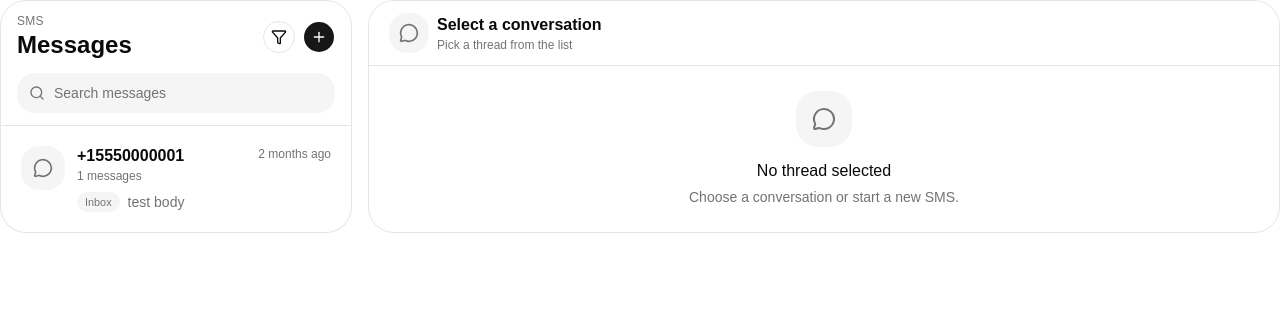
Scenario: MessageConsole context menus › opens message actions from the keyboard
Click the button "+15550000001" at (43, 168), box 9,134 -> 343,224
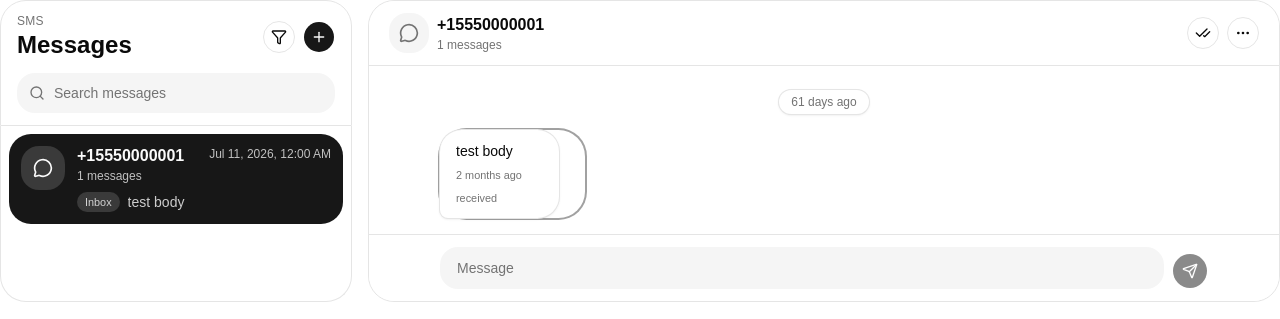
Now the element named "Message timeline" is shown, box 440,90 -> 869,218
Press F10 in the button that starts with "test body", box 440,130 -> 585,218
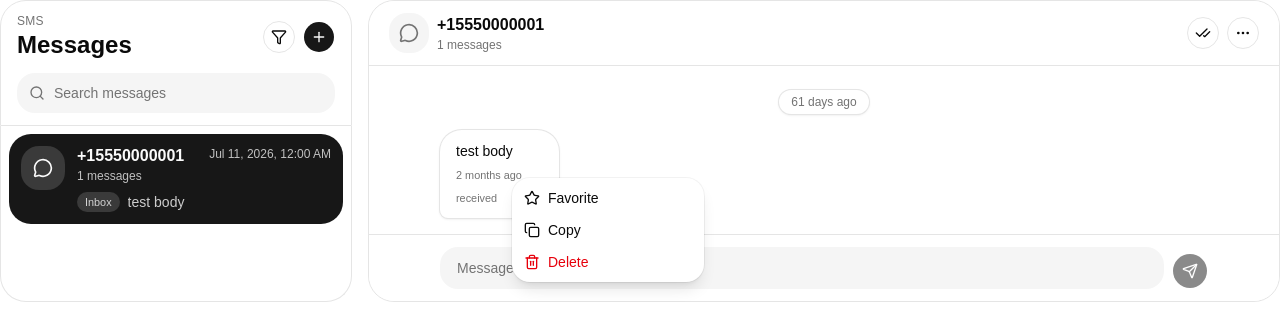
Now the menu item "Favorite" is shown, box 524,190 -> 599,206
